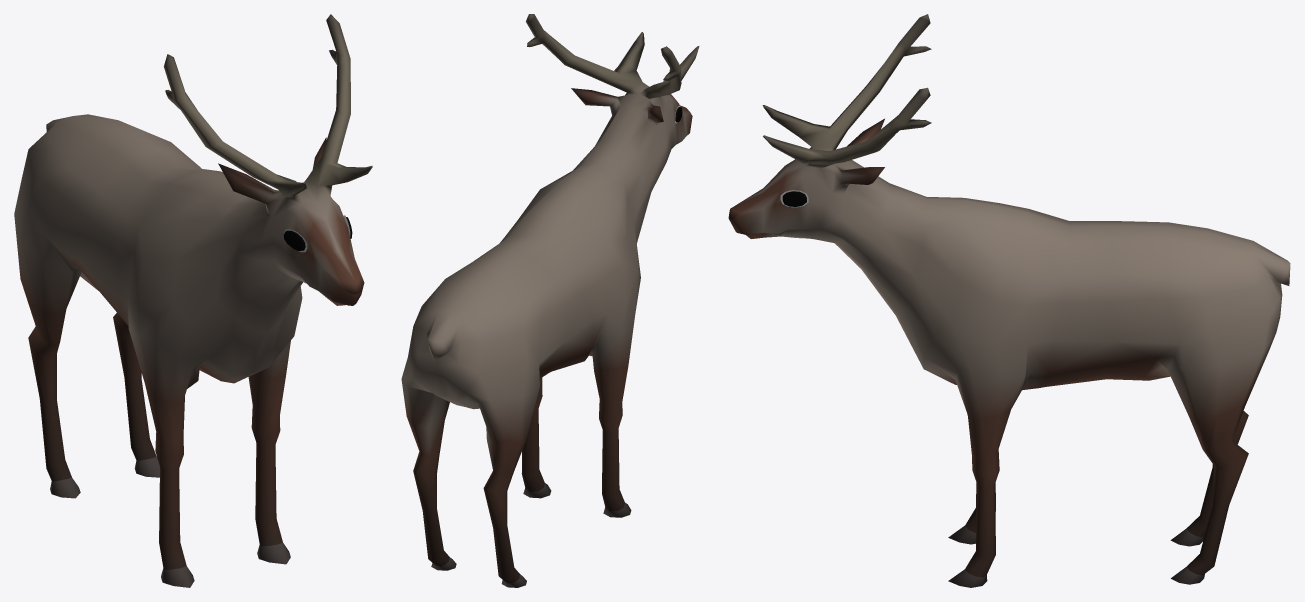
Rendered from animals-animals-caribou_v2.fbx.
The picture shows the model from 3 angles, left to right: view 1: azimuth 30°, elevation 25°; view 2: azimuth 150°, elevation 25°; view 3: azimuth 270°, elevation 25°; orthographic projection. The views are drawn at different scales.
Parts seen in each view (by area): view 1: Caribou_v2; view 2: Caribou_v2; view 3: Caribou_v2.
Boxes of the visible parts, x1,y1,x2,y2 form: Caribou_v2: [14, 14, 372, 587]; Caribou_v2: [401, 14, 699, 587]; Caribou_v2: [728, 14, 1290, 587].
Bounding box in the file's own units: 0.7246 × 2.21 × 2.21.
